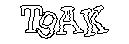9: (37, 11, 56, 38)
A: (55, 6, 82, 34)
K: (80, 5, 108, 36)
T: (20, 5, 41, 32)
